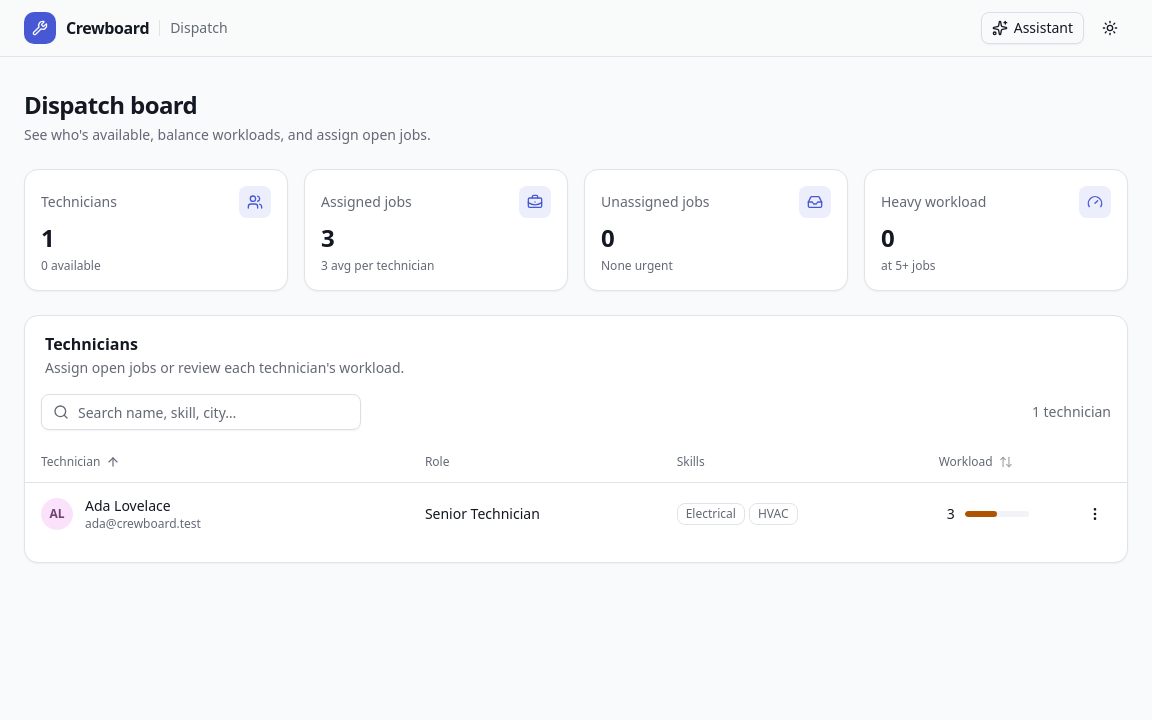
it: TechnicianProfilePage › opens from a technician’s name on the board and links back to it
Click the link "Ada Lovelace": (128, 506) [85,496,171,516]
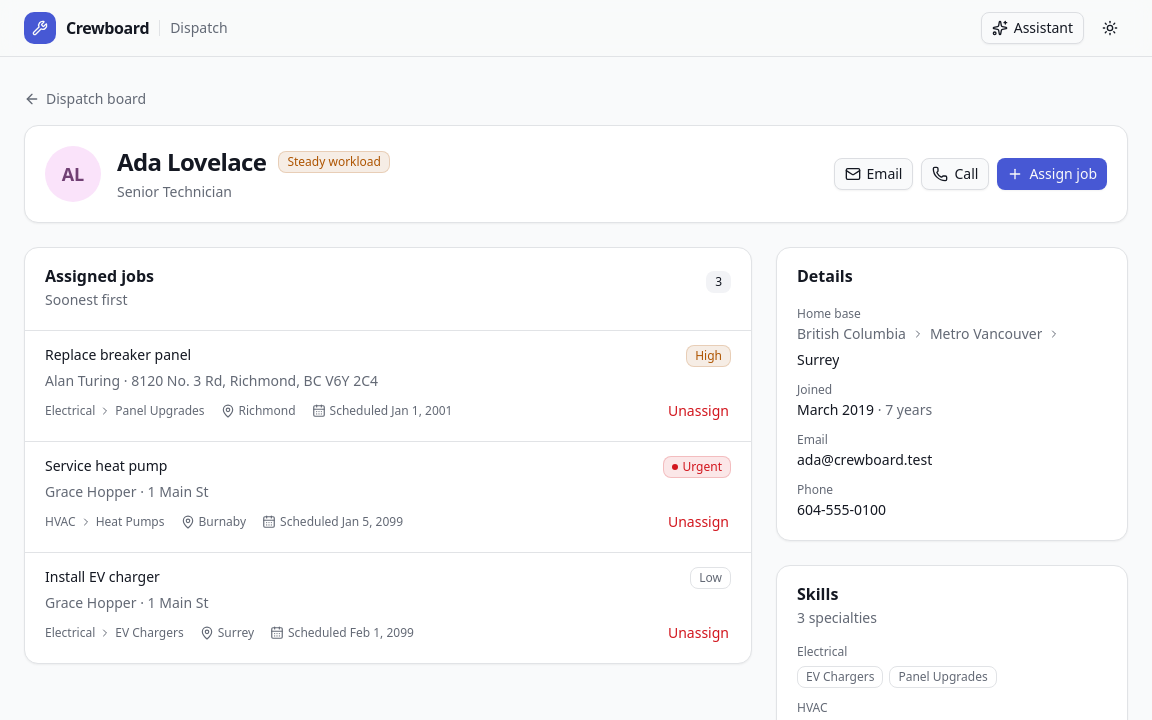
Expected: the heading "Ada Lovelace" is shown, [117,146,266,178]
Click the link "Dispatch board": (85, 99) [24,89,146,109]
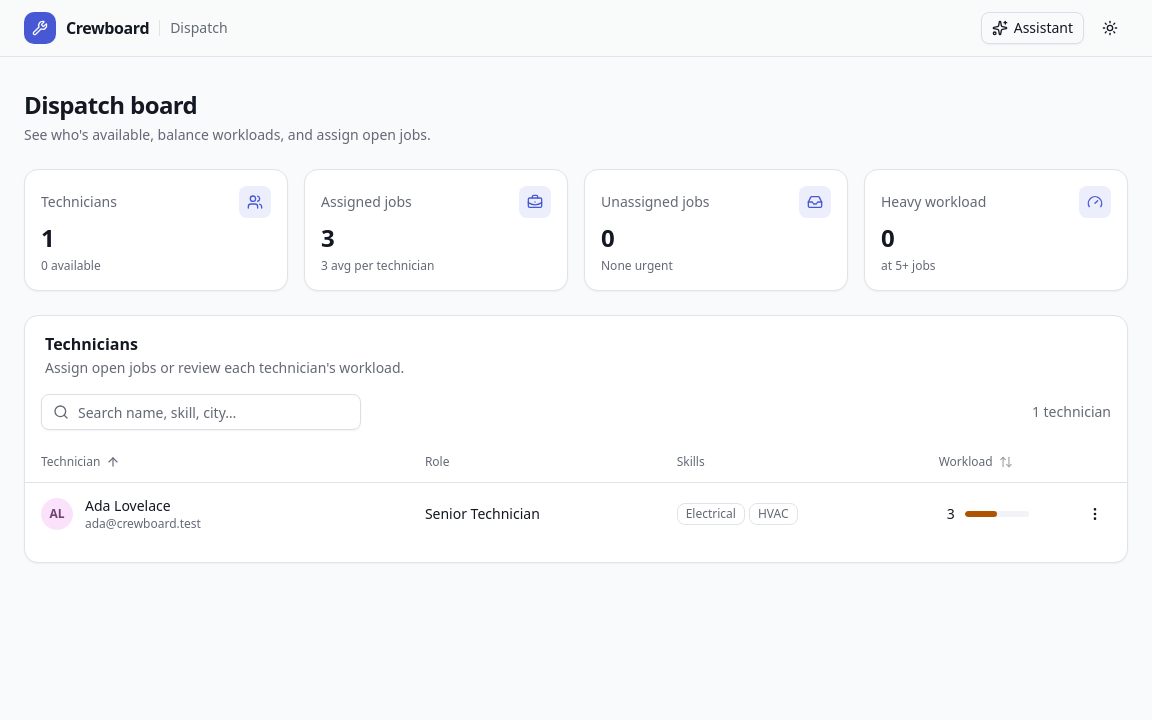
Expected: the heading "Dispatch board" is shown, [24,88,197,121]
